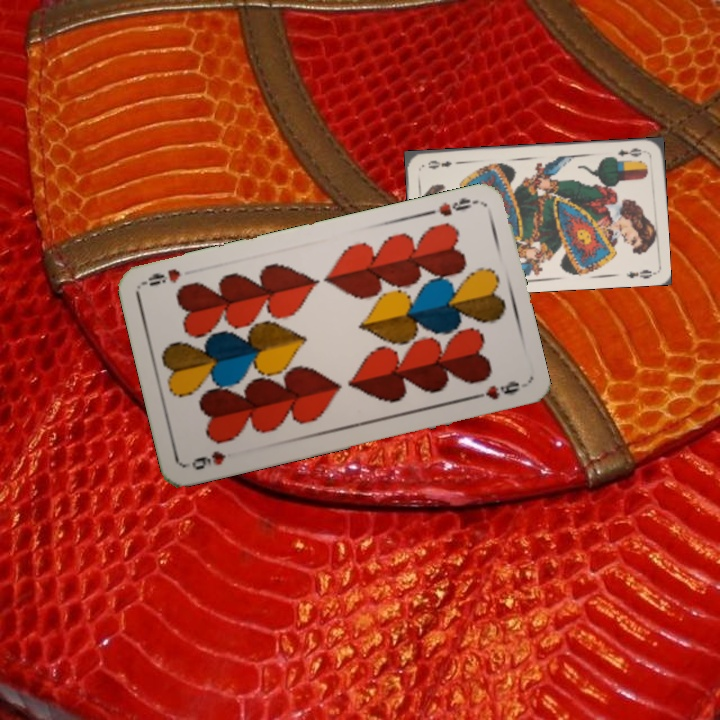EO: (613, 144, 644, 160)
H9: (423, 194, 481, 219), (187, 446, 228, 473)
